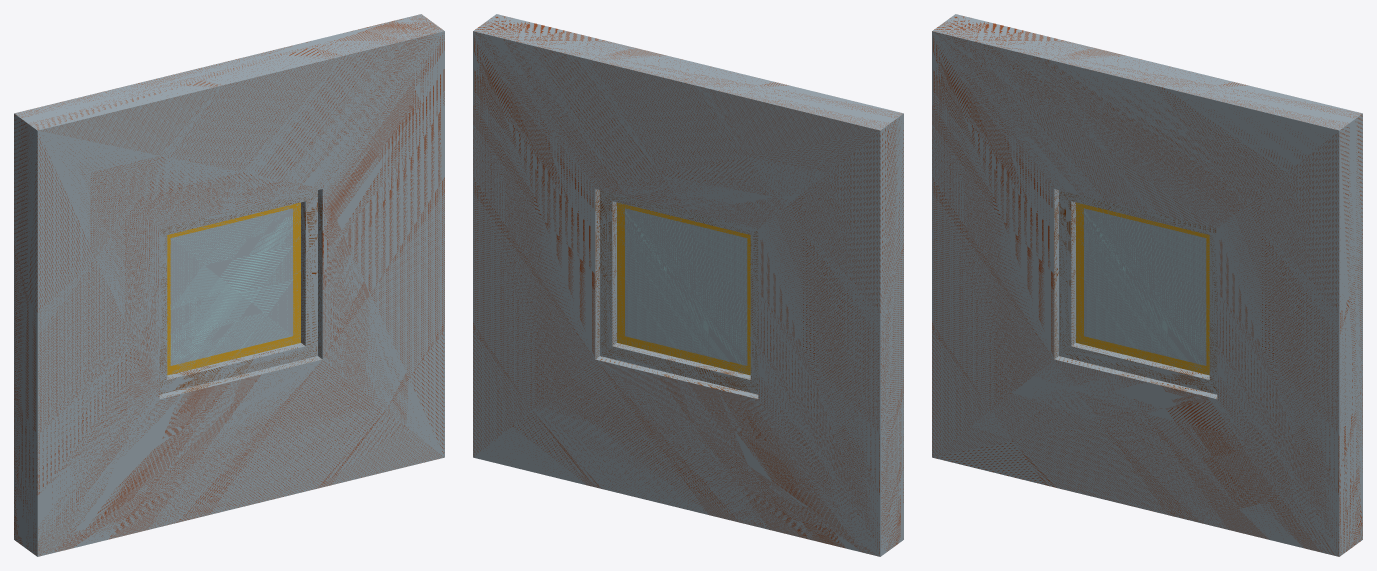
The model's file is wall_window_4_small.fbx.
The picture shows the model from 3 angles, left to right: view 1: azimuth 30°, elevation 25°; view 2: azimuth 150°, elevation 25°; view 3: azimuth 330°, elevation 25°; orthographic projection.
Parts seen in each view (by area): view 1: Mesh1_window1 Model; view 2: Mesh1_window1 Model; view 3: Mesh1_window1 Model.
Part boxes in pixels (x1=…): Mesh1_window1 Model: x1=14, y1=14, x2=444, y2=556; Mesh1_window1 Model: x1=473, y1=14, x2=903, y2=556; Mesh1_window1 Model: x1=932, y1=14, x2=1362, y2=556.
Size of the model in its own units: 1 by 1 by 0.1.
